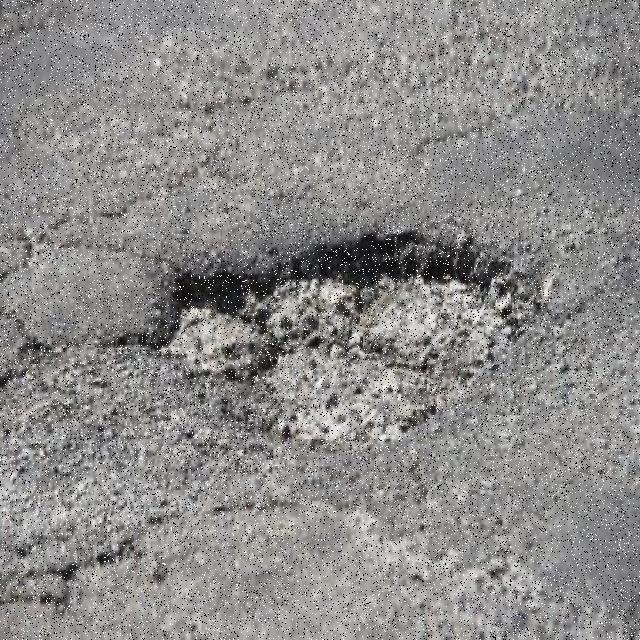Pothole: (144, 234, 538, 441)
